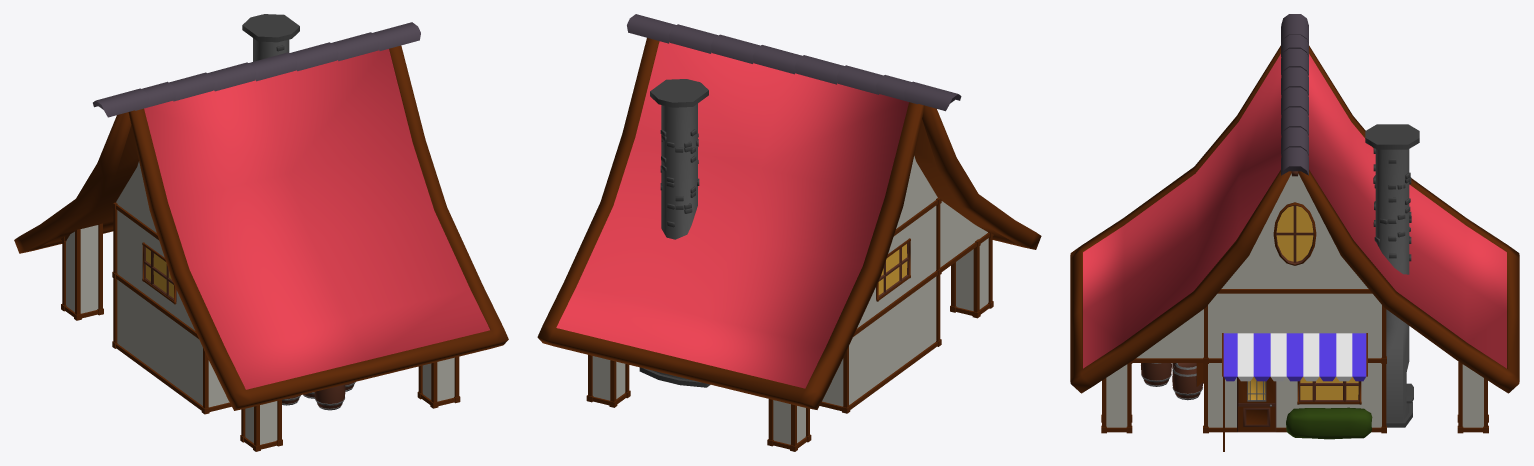
The model's file is SmallHouseVariation1.fbx.
The picture shows the model from 3 angles, left to right: view 1: azimuth 30°, elevation 25°; view 2: azimuth 150°, elevation 25°; view 3: azimuth 270°, elevation 25°; orthographic projection. The views are drawn at different scales.
Parts seen in each view (by area): view 1: Telhado.001, Base.002, Telhas.001, EstruturaDaBorda.003, Chamine, JanelasGrandes.001, Barris; view 2: Telhado.001, Base.002, Telhas.001, EstruturaDaBorda.003, Chamine, JanelasGrandes.001, Tijolos.001; view 3: Telhado.001, Base.002, Chamine, Lona.001, Telhas.001, EstruturaDaBorda.003, Arbustos.001, JanelasRedondas.001, Portas.003, JanelasGrandes.001, Barris, Tijolos.001.
Boxes of the visible parts, x1,y1,x2,y2 form: Telhado.001: (14, 45, 508, 410); Base.002: (66, 161, 454, 444); Telhas.001: (93, 22, 420, 117); EstruturaDaBorda.003: (61, 202, 460, 451); Chamine: (242, 14, 299, 61); JanelasGrandes.001: (142, 242, 176, 304); Barris: (282, 382, 355, 410); Telhado.001: (537, 38, 1041, 409); Base.002: (592, 156, 988, 444); Telhas.001: (627, 14, 961, 111); EstruturaDaBorda.003: (586, 198, 993, 451); Chamine: (639, 79, 710, 387); JanelasGrandes.001: (876, 238, 910, 301); Tijolos.001: (660, 129, 699, 227); Telhado.001: (1070, 45, 1519, 393); Base.002: (1106, 173, 1483, 427); Chamine: (1365, 124, 1419, 427); Lona.001: (1222, 333, 1367, 451); Telhas.001: (1281, 14, 1308, 175); EstruturaDaBorda.003: (1101, 289, 1488, 433); Arbustos.001: (1286, 407, 1372, 439); JanelasRedondas.001: (1273, 202, 1316, 265); Portas.003: (1237, 376, 1276, 432); JanelasGrandes.001: (1297, 376, 1361, 404); Barris: (1141, 363, 1202, 400); Tijolos.001: (1373, 148, 1411, 261).
Size of the model in its own units: 1157 by 1026 by 1431.
